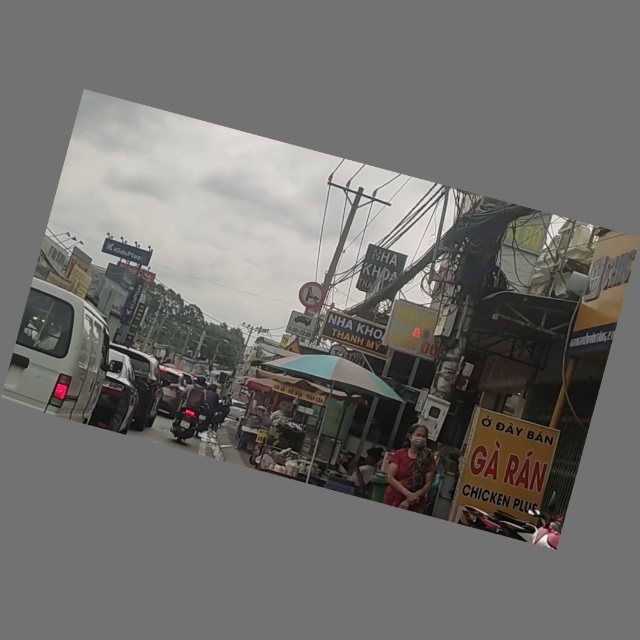P.139: (296, 279, 327, 311)
S.505a*Xe tai: (285, 313, 318, 340)
